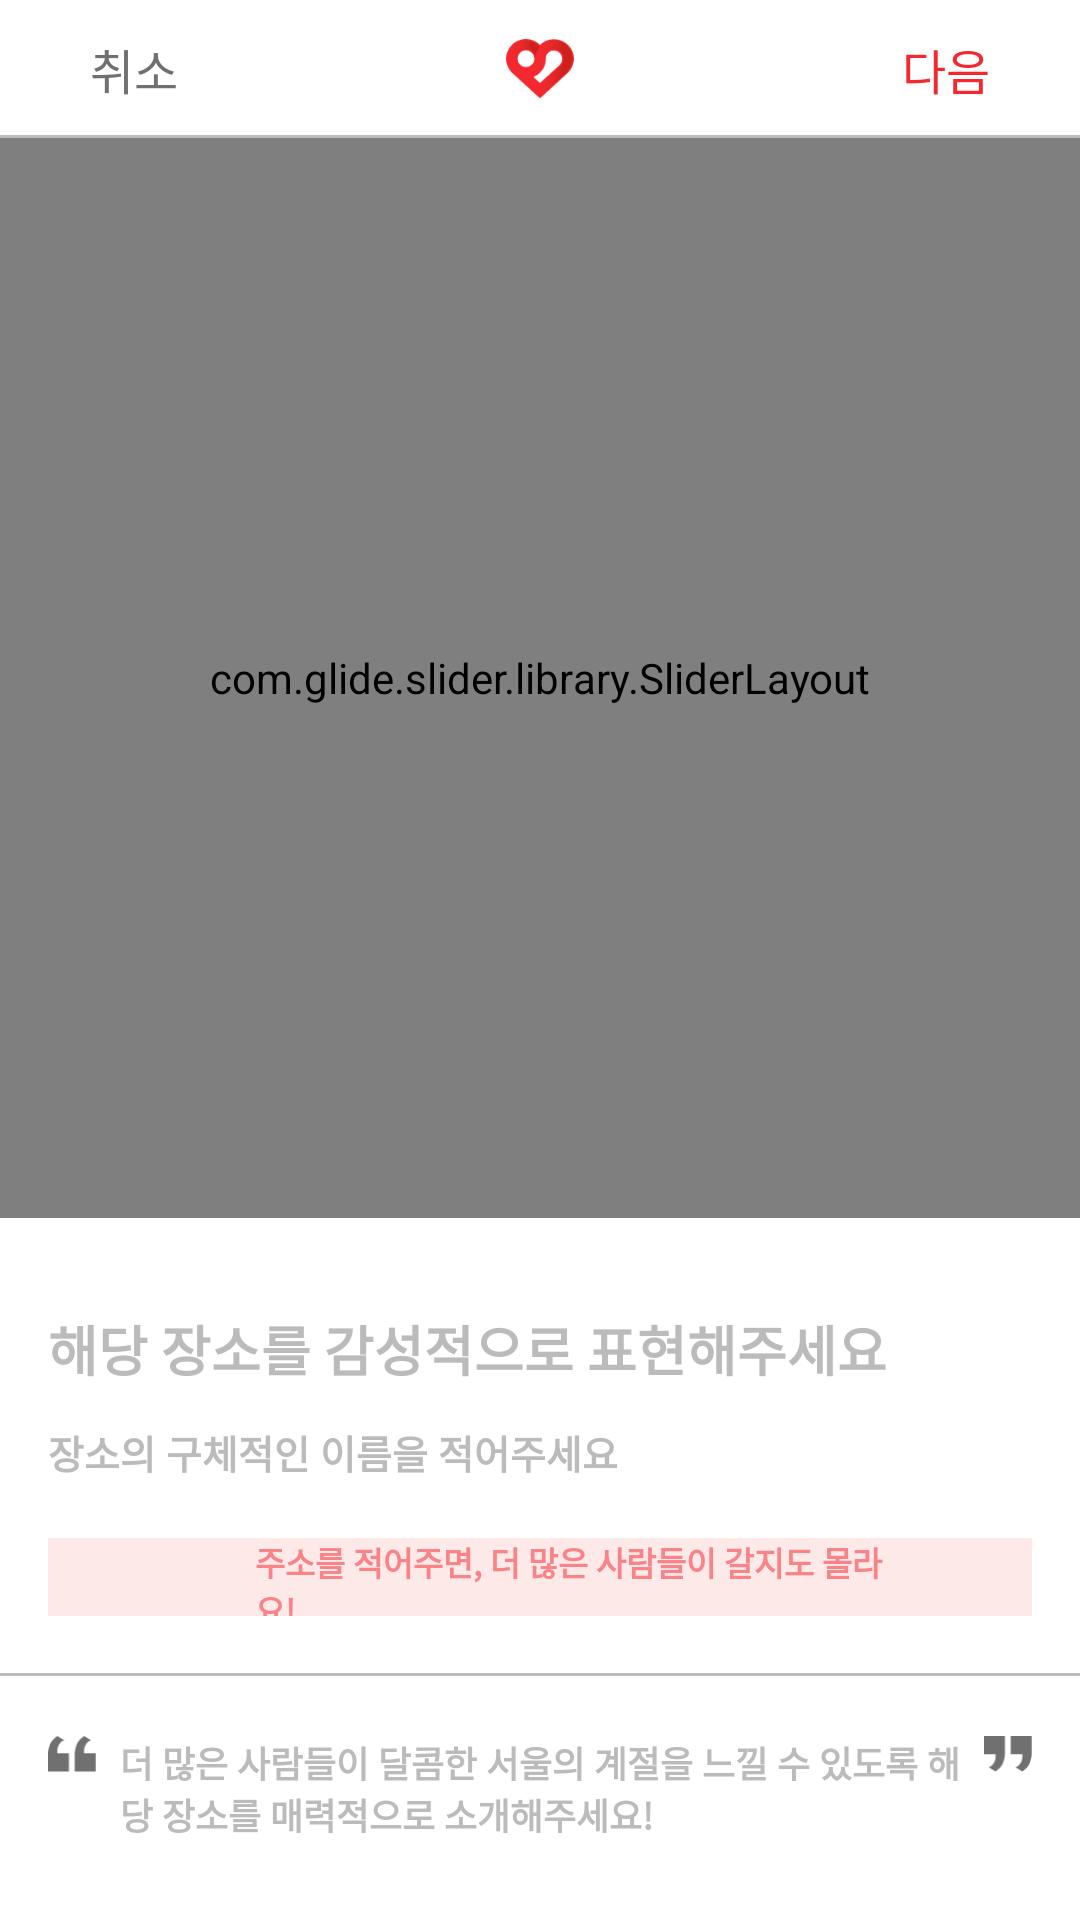

Icon bounding boxes for this 1080 × 1920 phone screenshot, format (x1, y1, x2, y2):
heart: (506, 39, 574, 98)
